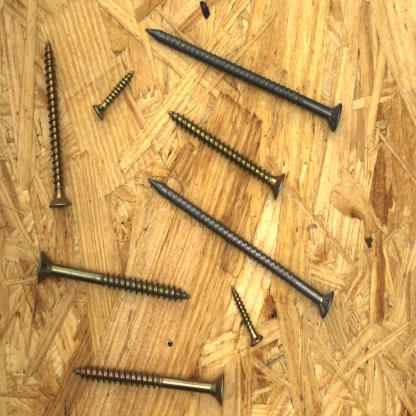screw: (146, 171, 342, 324), (142, 25, 346, 136), (164, 106, 292, 204), (35, 248, 194, 303), (70, 362, 229, 410), (39, 36, 74, 212), (90, 66, 140, 124), (228, 282, 266, 350)
